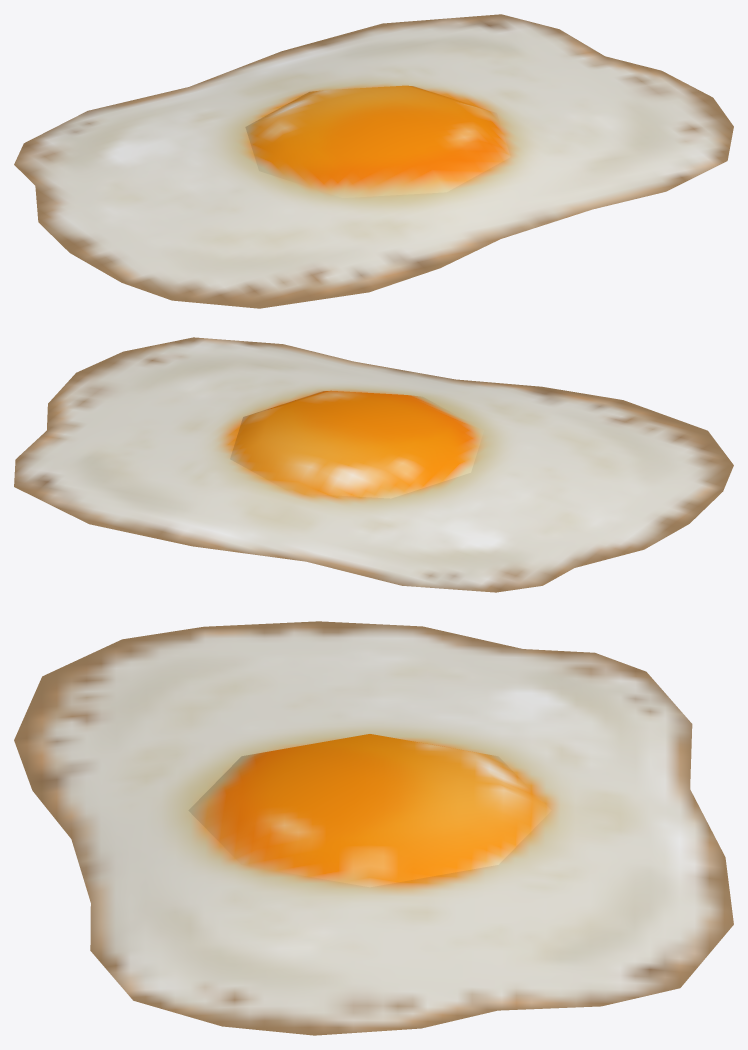
Rendered from jsf_FriedEgg_02.fbx.
3 views of the same model, one above another, from view 1: azimuth 30°, elevation 25°; view 2: azimuth 150°, elevation 25°; view 3: azimuth 270°, elevation 25° (orthographic). The views are drawn at different scales.
Parts seen in each view (by area): view 1: jsf_FriedEgg_02; view 2: jsf_FriedEgg_02; view 3: jsf_FriedEgg_02.
Part boxes in pixels (x1,y1,x2,y2): jsf_FriedEgg_02: [14, 14, 733, 308]; jsf_FriedEgg_02: [14, 337, 733, 592]; jsf_FriedEgg_02: [14, 621, 733, 1035].
Size of the model in its own units: 11.98 by 0.7141 by 8.8.
